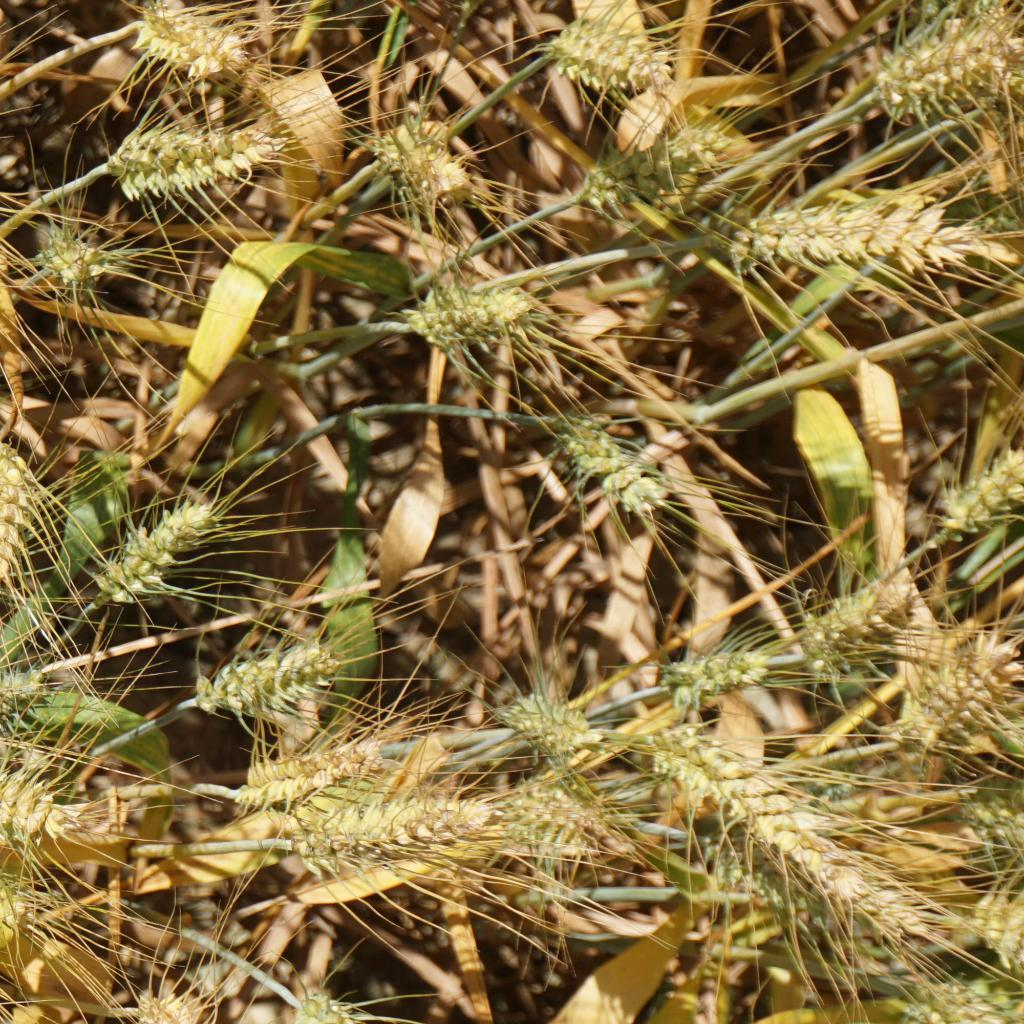0-0: (647, 702, 952, 952), (713, 169, 1004, 292), (282, 783, 502, 886), (521, 403, 689, 516), (84, 486, 226, 616), (862, 9, 1011, 132), (108, 110, 291, 210), (183, 621, 342, 729), (565, 107, 723, 215), (354, 109, 501, 217), (528, 9, 680, 110), (918, 612, 1011, 775), (113, 0, 264, 93), (232, 732, 420, 806), (674, 806, 798, 915), (491, 775, 625, 875), (403, 271, 555, 356), (911, 444, 1024, 547), (796, 574, 905, 674), (0, 425, 53, 610), (484, 678, 593, 764), (38, 203, 117, 318), (943, 781, 1024, 879), (657, 638, 764, 709), (915, 956, 1024, 1024), (956, 888, 1024, 987), (0, 758, 71, 837), (294, 984, 406, 1024), (122, 986, 222, 1024), (0, 856, 34, 934)
